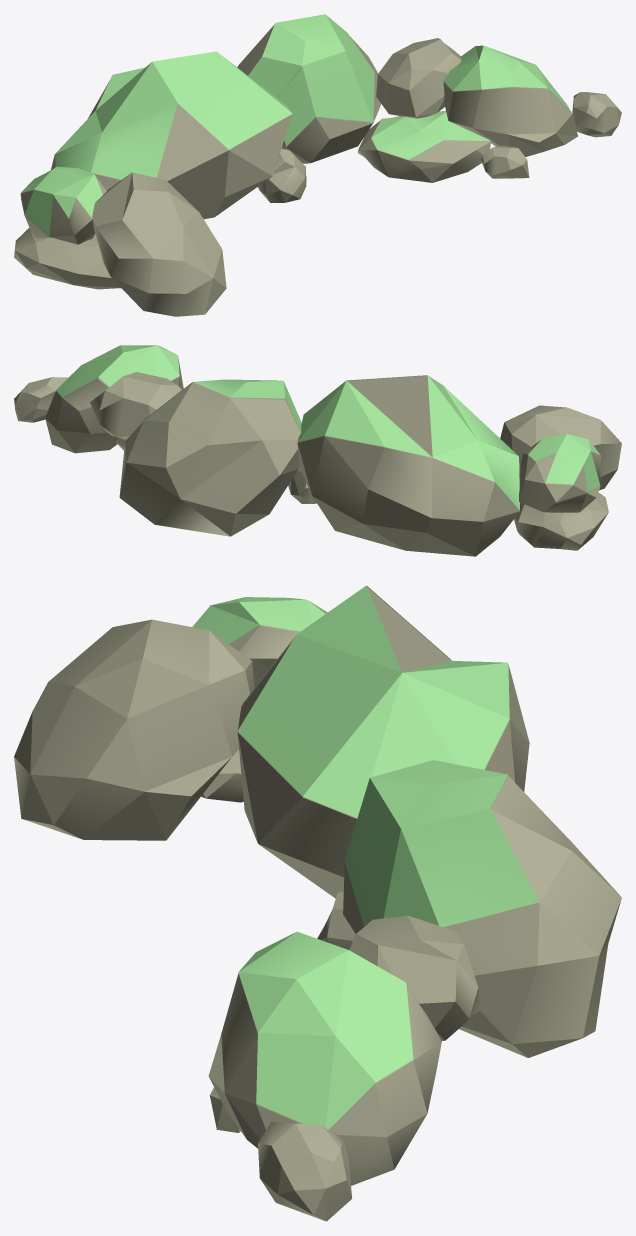
The model's file is Spring_Obstacle2.fbx.
3 views of the same model, one above another, from view 1: azimuth 30°, elevation 25°; view 2: azimuth 150°, elevation 25°; view 3: azimuth 270°, elevation 25° (orthographic). The views are drawn at different scales.
Parts seen in each view (by area): view 1: Камень.019; view 2: Камень.019; view 3: Камень.019.
Part boxes in pixels (x1,y1,x2,y2): Камень.019: (14, 14, 621, 316); Камень.019: (14, 345, 621, 556); Камень.019: (14, 585, 621, 1221).
Size of the model in its own units: 1676 by 441 by 873.
